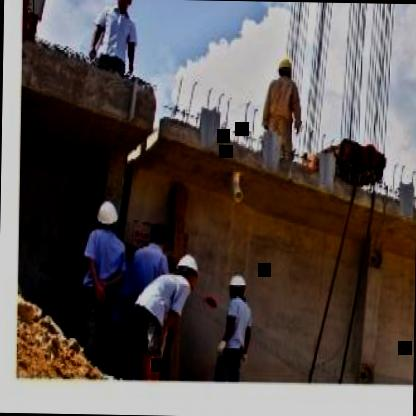head: (147, 218, 170, 252)
helmet: (172, 250, 200, 293), (95, 198, 122, 235), (226, 270, 249, 306), (277, 53, 294, 84), (109, 0, 134, 15)
